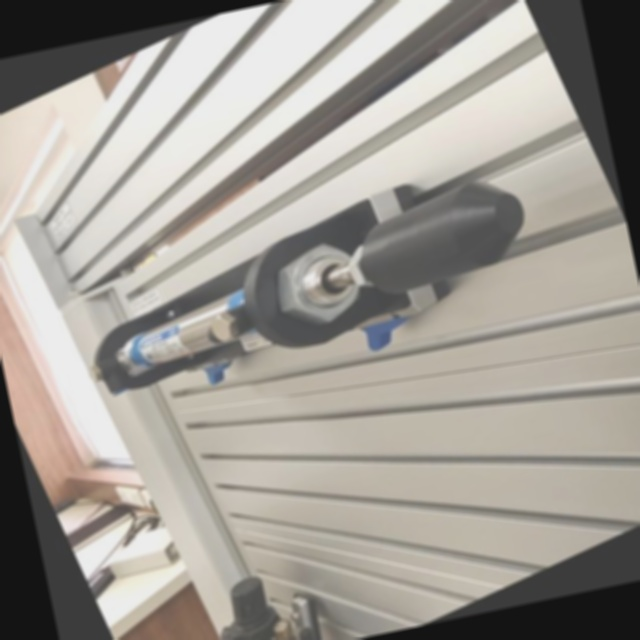double acting pneumatic cylinder: (48, 129, 580, 478)
